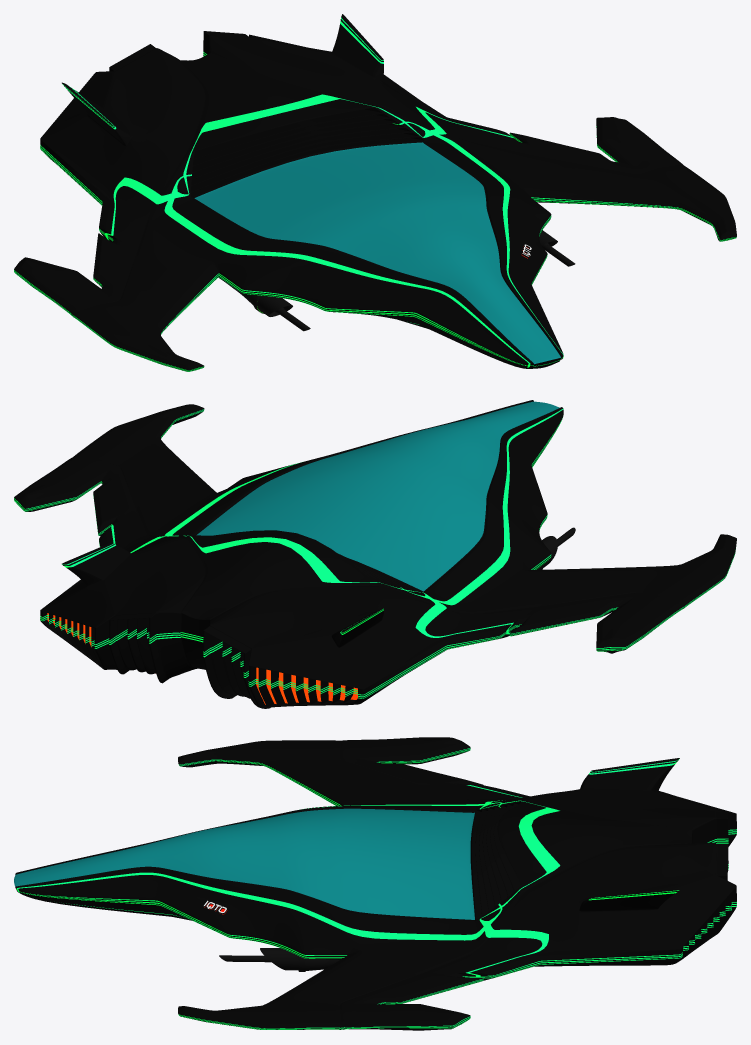
Rendered from spaceship.glb.
3 views of the same model, one above another, from view 1: azimuth 30°, elevation 25°; view 2: azimuth 150°, elevation 25°; view 3: azimuth 270°, elevation 25° (orthographic). The views are drawn at different scales.
Visible parts, largest first — view 1: spaceship; view 2: spaceship; view 3: spaceship.
Boxes of the visible parts, x1,y1,x2,y2 form: spaceship: (14,14,736,371); spaceship: (14,400,736,708); spaceship: (14,737,736,1030).
Size of the model in its own units: 5.81 by 0.8471 by 6.17.
